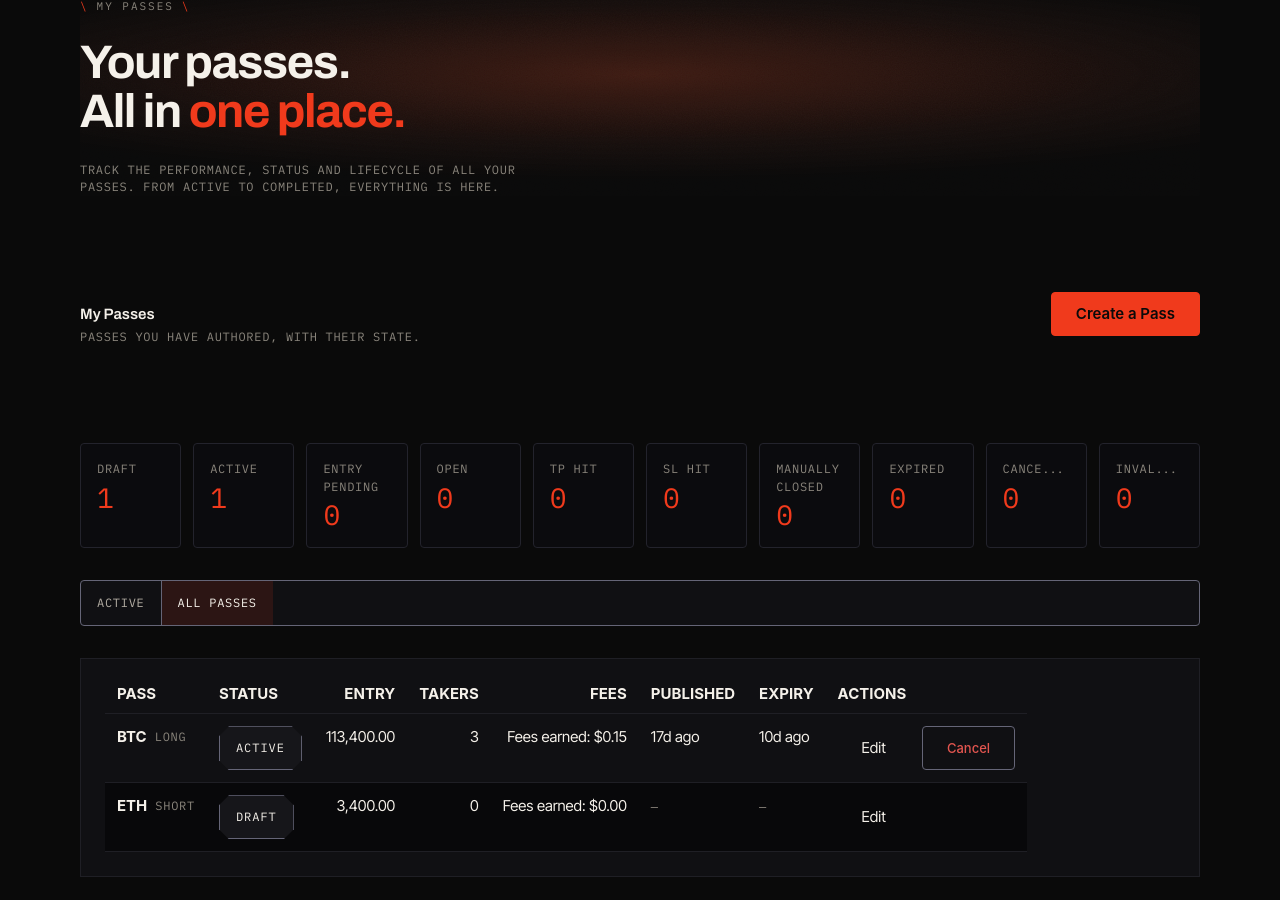
Test: My Passes — author actions (Stage C) › cancel confirms, POSTs, and the row returns cancelled with no controls
The image size is (1280, 900).
Expected: the heading "My Passes" is shown, [80,306,155,322]
Click the button "Cancel".
click(968, 748)  # box [922,726,1015,770]
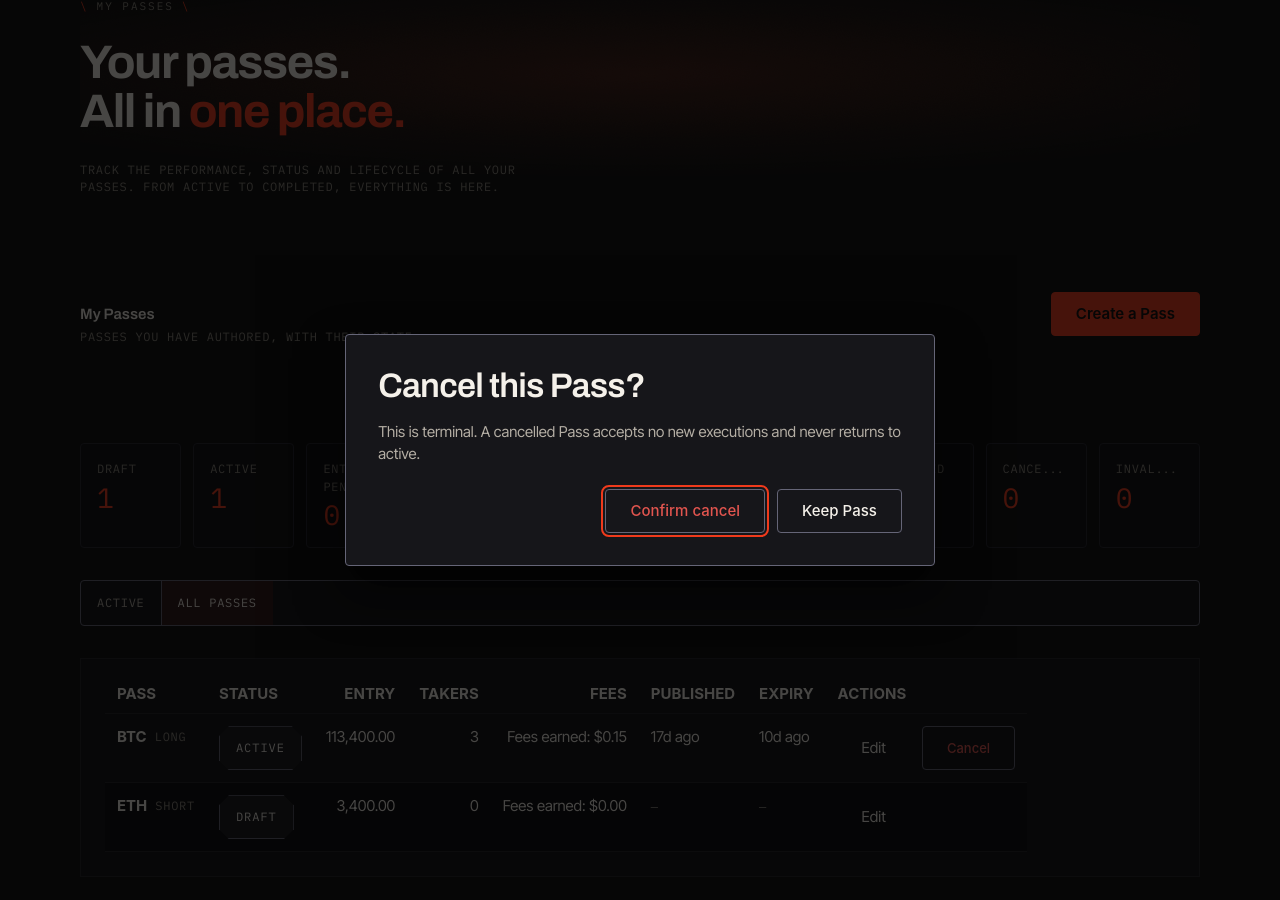
Result: the dialog "Cancel this Pass?" is shown at [345,334,935,566]
Result: the text "no new executions" is shown at [378,422,901,463]
Click the button "Confirm cancel".
click(685, 511)  # box [606,489,765,533]
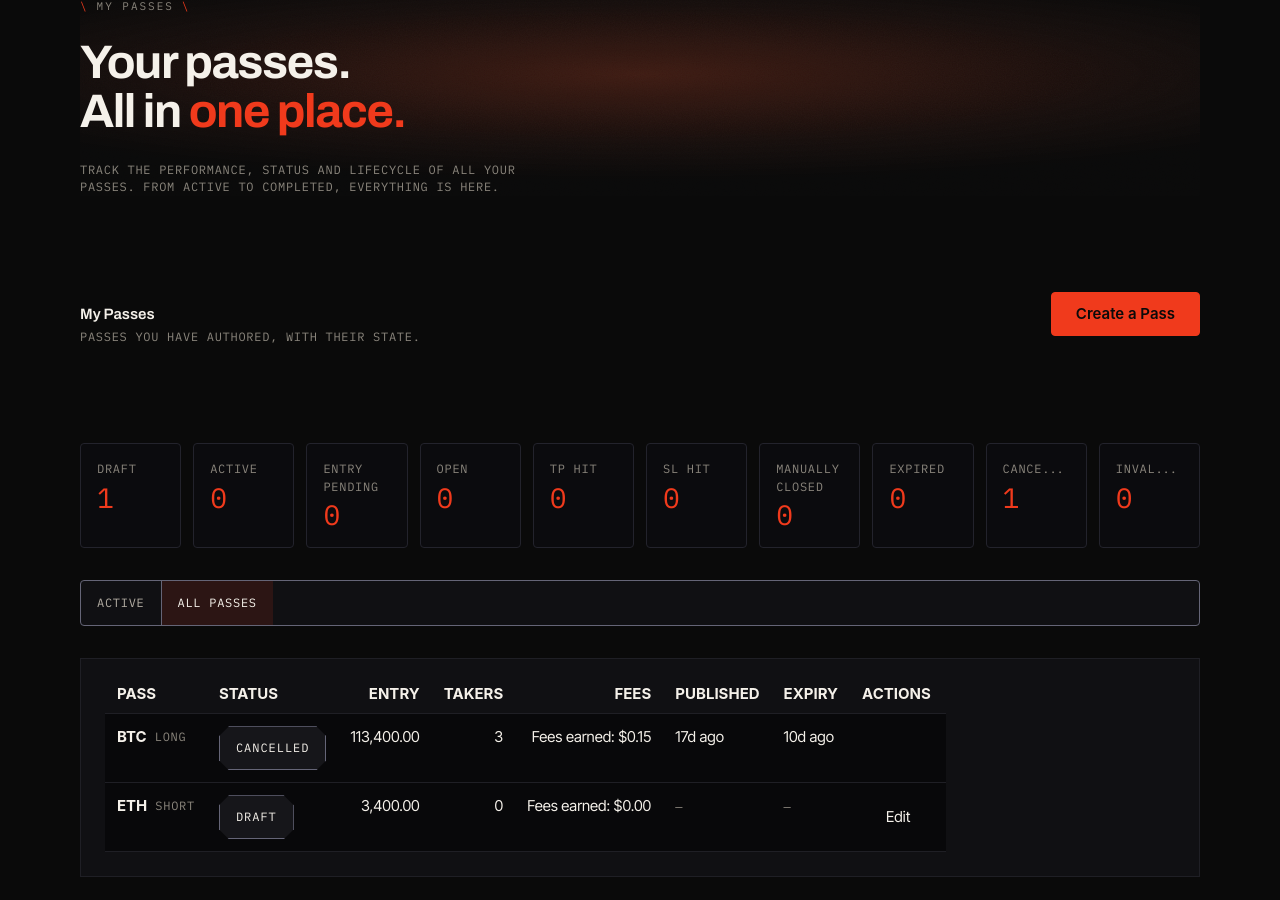
Expected: the text "Cancelled" next to "Invalidated" is shown, [1003,461,1074,476]
Result: the dialog is gone
